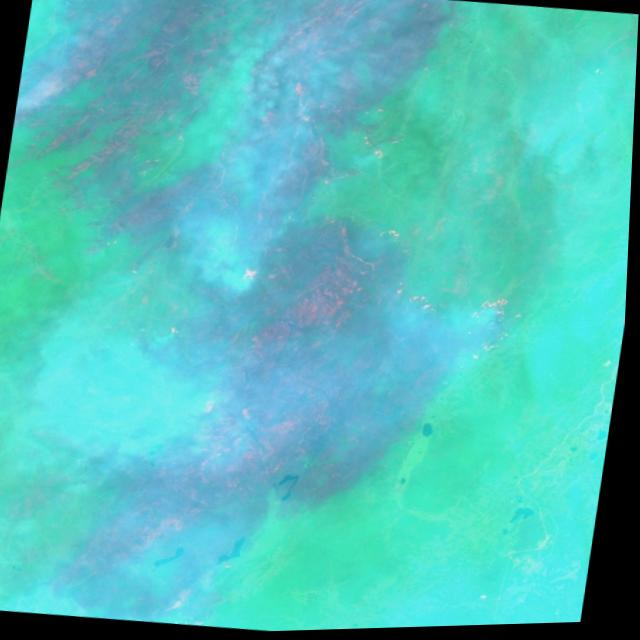fire: (387, 283, 524, 340), (348, 125, 414, 161), (239, 262, 276, 286), (374, 226, 409, 246)
